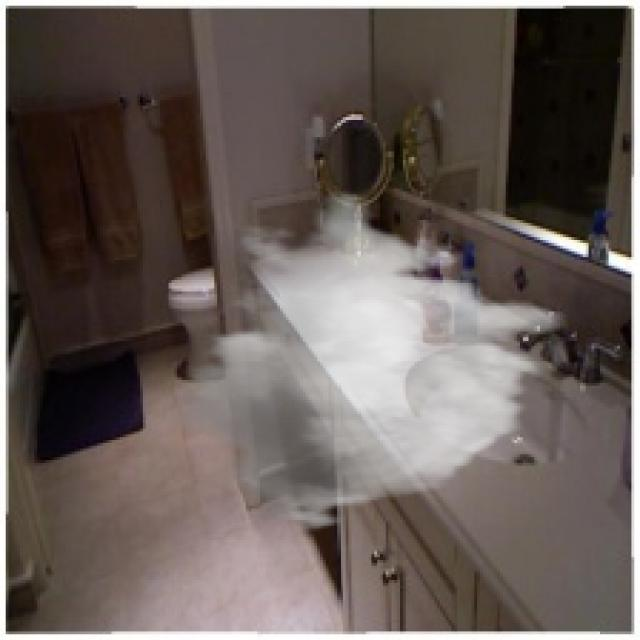smoke: (160, 192, 569, 534)
